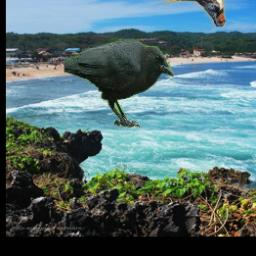Crow: (64, 39, 175, 129)
Swallow: (157, 0, 226, 27)
